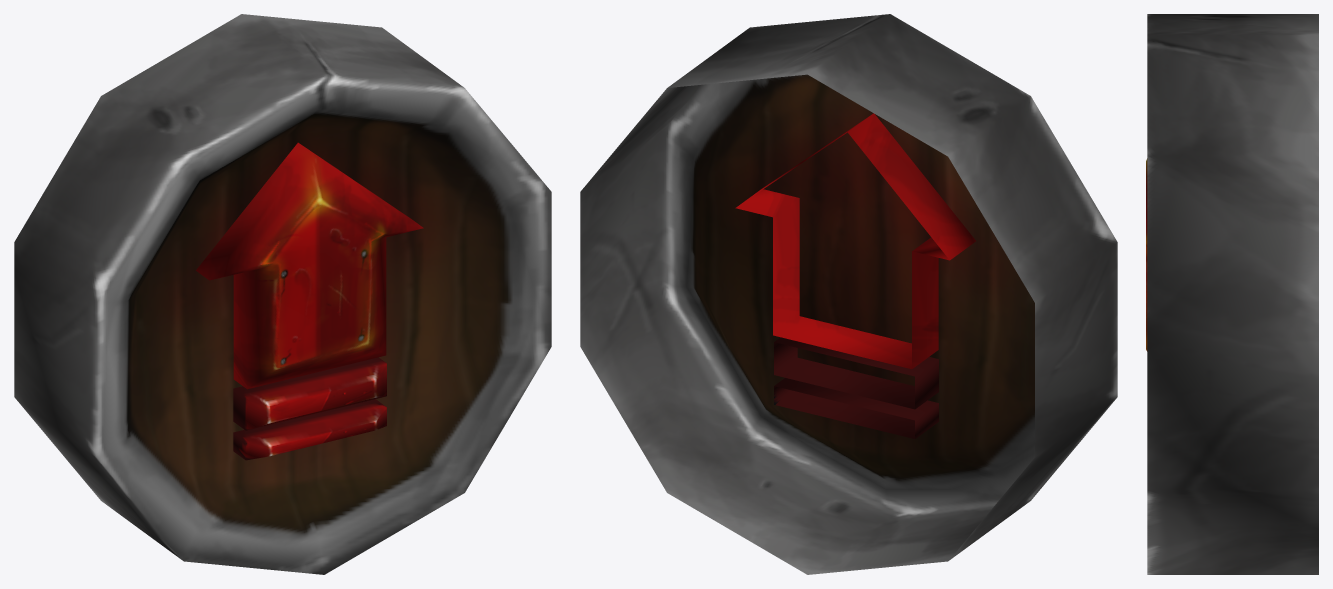
The model's file is Upgrade_Button.fbx.
3 renders of one model, left to right at view 1: azimuth 30°, elevation 25°; view 2: azimuth 150°, elevation 25°; view 3: azimuth 270°, elevation 25°, orthographic. The views are drawn at different scales.
Parts seen in each view (by area): view 1: Cube_5; view 2: Cube_5; view 3: Cube_5.
Part boxes in pixels (x1,y1,x2,y2): Cube_5: (14,14,551,574); Cube_5: (580,14,1117,574); Cube_5: (1146,14,1318,574).
Bounding box in the file's own units: 951 × 1000 × 302.
1 material, 1 textured.
